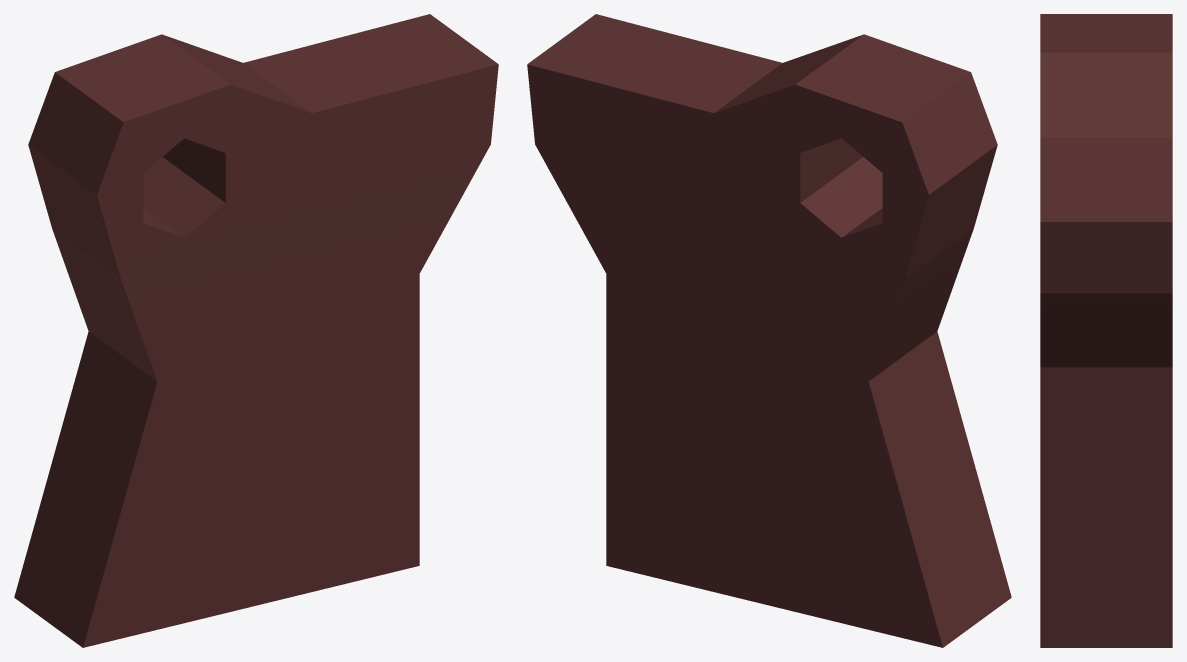
Rendered from Pistol1_06_4.fbx.
3 views of the same model, side by side, from view 1: azimuth 30°, elevation 25°; view 2: azimuth 150°, elevation 25°; view 3: azimuth 270°, elevation 25° (orthographic). The views are drawn at different scales.
Visible parts, largest first — view 1: Pistol1_06_4; view 2: Pistol1_06_4; view 3: Pistol1_06_4.
Boxes of the visible parts, x1,y1,x2,y2 form: Pistol1_06_4: (14,14,498,647); Pistol1_06_4: (527,14,1011,647); Pistol1_06_4: (1040,14,1172,647).
Bounding box in the file's own units: 0.0272 × 0.033 × 0.0078.
